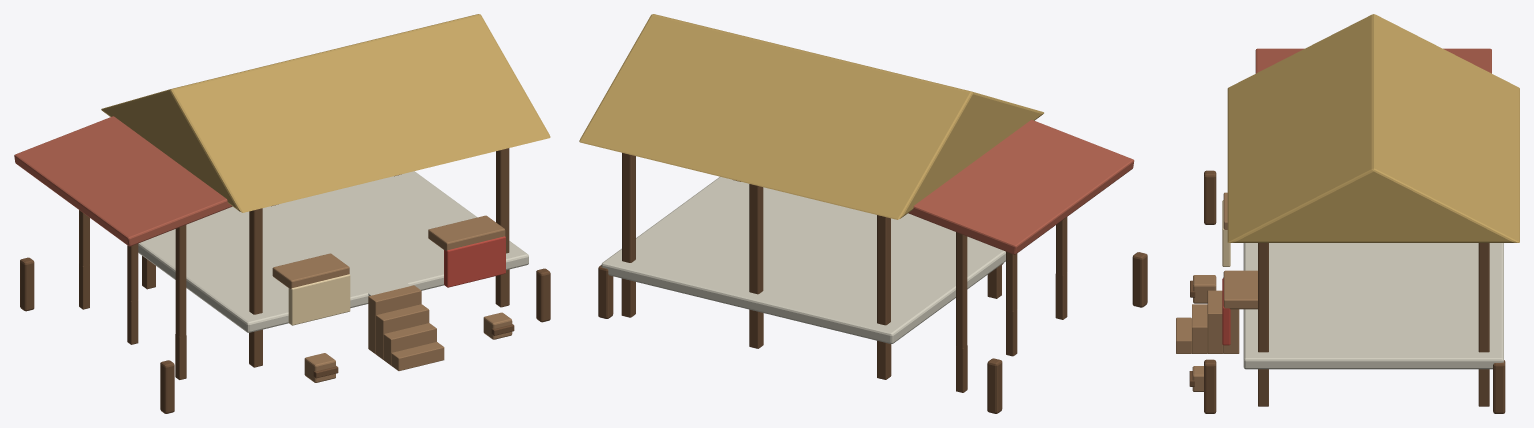
File: wetland-market-1.glb
The picture shows the model from 3 angles, left to right: view 1: azimuth 30°, elevation 25°; view 2: azimuth 150°, elevation 25°; view 3: azimuth 270°, elevation 25°; orthographic projection. The views are drawn at different scales.
Visible parts, largest first — view 1: Golden thatch, Cut limestone, Clay tiles, Dark beams, Aged oak, Market cream cloth, Market red cloth; view 2: Golden thatch, Cut limestone, Clay tiles, Dark beams; view 3: Golden thatch, Cut limestone, Dark beams, Aged oak, Clay tiles, Market red cloth, Market cream cloth.
Part boxes in pixels (x1,y1,x2,y2): Golden thatch: [101, 14, 550, 212]; Cut limestone: [138, 171, 528, 332]; Clay tiles: [14, 116, 232, 246]; Dark beams: [20, 148, 550, 413]; Aged oak: [272, 215, 512, 382]; Market cream cloth: [288, 274, 350, 325]; Market red cloth: [444, 236, 505, 287]; Golden thatch: [579, 14, 1043, 219]; Cut limestone: [601, 176, 1005, 343]; Clay tiles: [908, 119, 1134, 254]; Dark beams: [598, 153, 1147, 413]; Golden thatch: [1227, 14, 1519, 242]; Cut limestone: [1243, 243, 1503, 369]; Dark beams: [1189, 170, 1505, 413]; Aged oak: [1176, 192, 1257, 391]; Clay tiles: [1255, 48, 1491, 73]; Market red cloth: [1222, 278, 1230, 345]; Market cream cloth: [1222, 200, 1230, 266].
Bounding box in the file's own units: 7.12 × 4.05 × 5.02.
